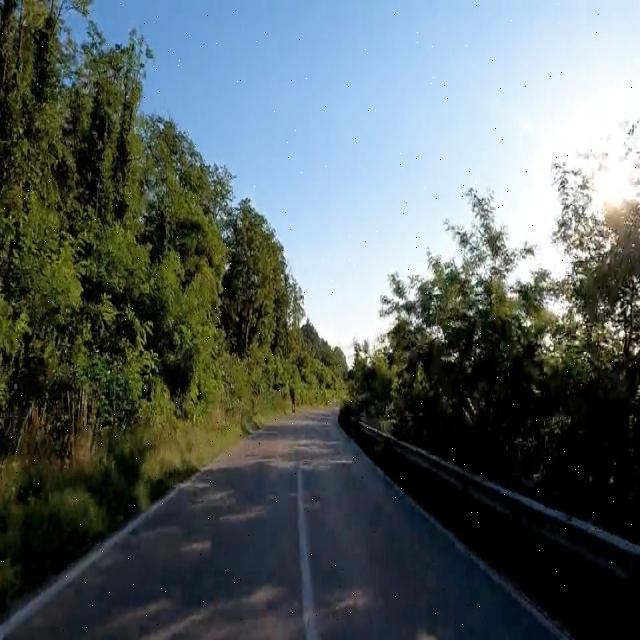lane: (1, 408, 559, 638), (1, 409, 353, 638), (298, 466, 318, 639)
road: (1, 408, 559, 638)
